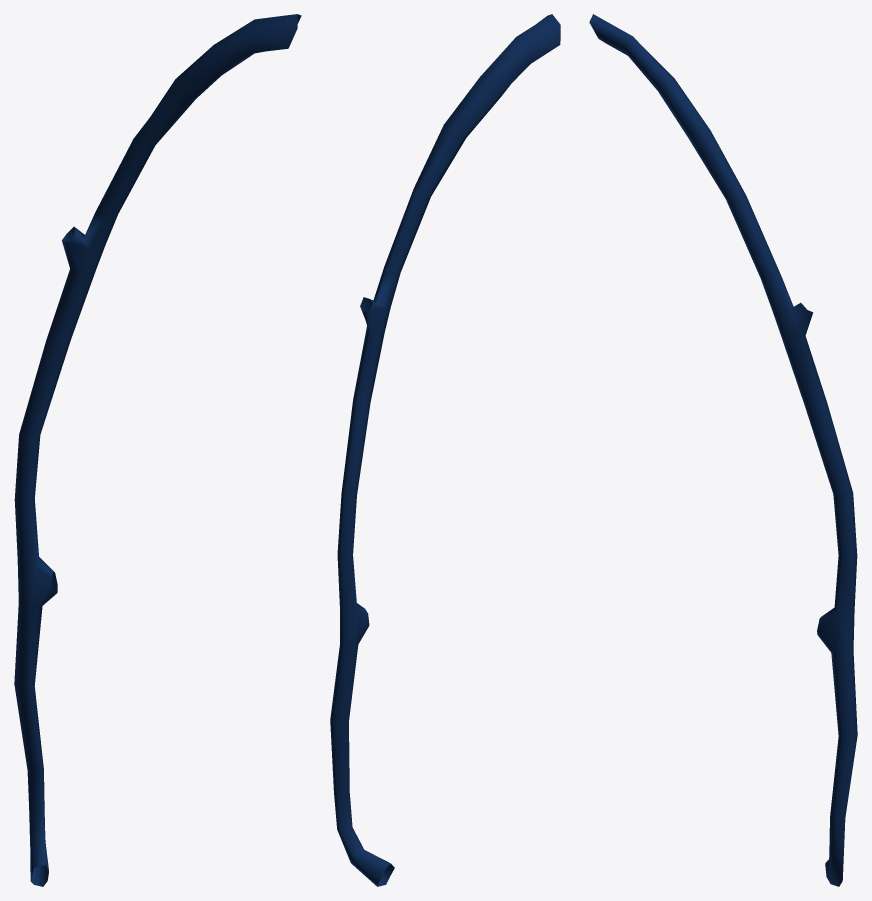
The model's file is L ramus palmaris vena medianae.fbx.
The picture shows the model from 3 angles, left to right: view 1: azimuth 90°, elevation 25°; view 2: azimuth 150°, elevation 25°; view 3: azimuth 270°, elevation 25°; orthographic projection. The views are drawn at different scales.
Parts seen in each view (by area): view 1: L ramus palmaris vena medianae, L ramus palmaris vena medianae low; view 2: L ramus palmaris vena medianae, L ramus palmaris vena medianae low; view 3: L ramus palmaris vena medianae, L ramus palmaris vena medianae low.
Boxes of the visible parts, x1,y1,x2,y2 form: L ramus palmaris vena medianae: (14,14,301,886); L ramus palmaris vena medianae low: (19,15,293,885); L ramus palmaris vena medianae: (330,14,560,886); L ramus palmaris vena medianae low: (330,15,560,886); L ramus palmaris vena medianae: (589,14,857,886); L ramus palmaris vena medianae low: (591,15,857,886).
Bounding box in the file's own units: 1.71 × 11.68 × 3.37.
